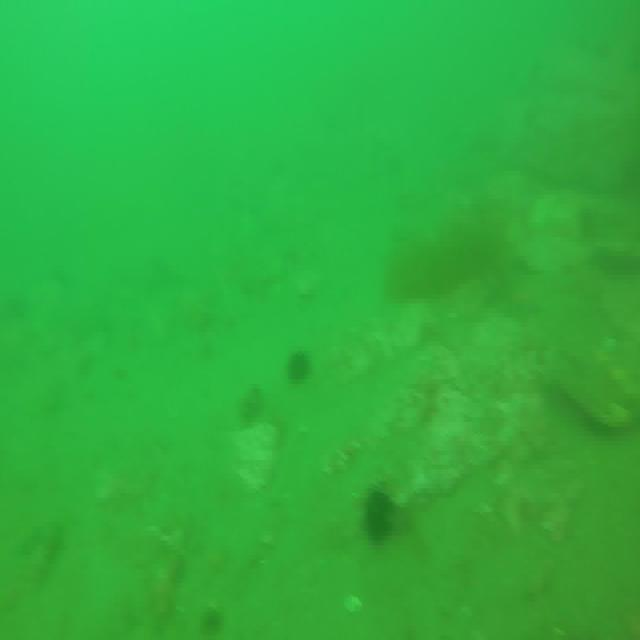echinus: (365, 483, 394, 545), (287, 346, 312, 383)
